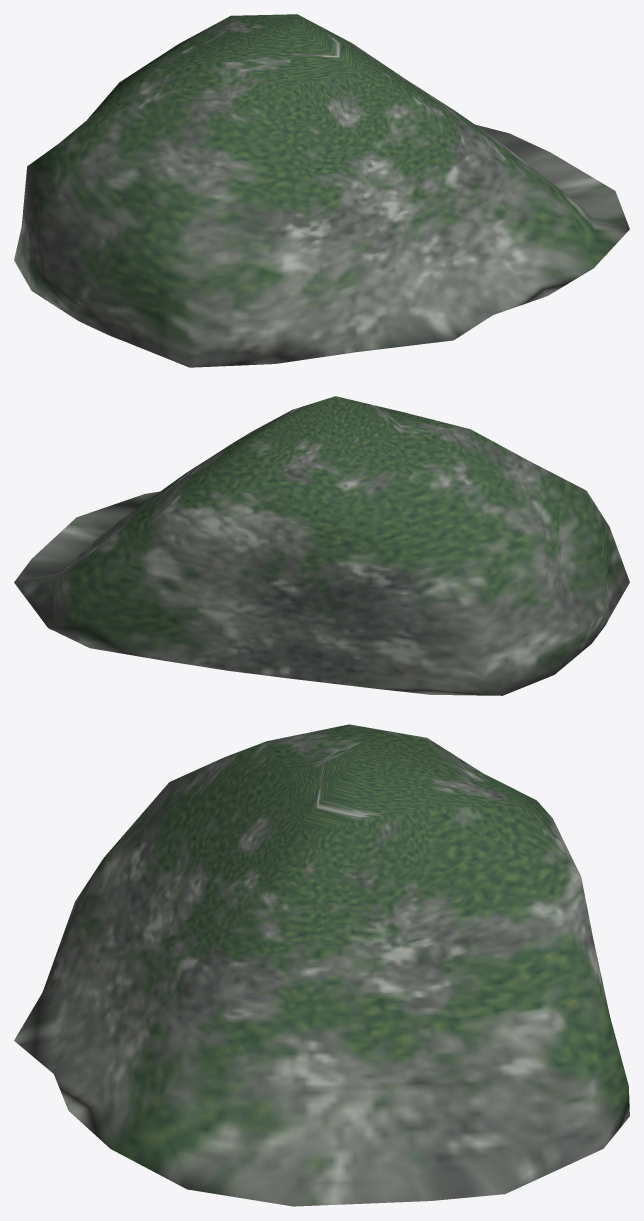
The model's file is rock_taiga_mossy_a.glb.
3 views of the same model, one above another, from view 1: azimuth 30°, elevation 25°; view 2: azimuth 150°, elevation 25°; view 3: azimuth 270°, elevation 25° (orthographic). The views are drawn at different scales.
Visible parts, largest first — view 1: rock_taiga_mossy_a; view 2: rock_taiga_mossy_a; view 3: rock_taiga_mossy_a.
Boxes of the visible parts, <box> form: rock_taiga_mossy_a: <box>14,14,629,367</box>; rock_taiga_mossy_a: <box>14,396,629,695</box>; rock_taiga_mossy_a: <box>14,724,629,1206</box>.
Bounding box in the file's own units: 2.42 × 0.9134 × 1.91.
1 material, 1 textured.
